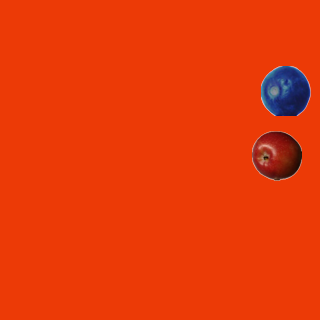Apple Braeburn: (251, 130, 301, 180)
Huckleberry: (260, 65, 310, 115)
